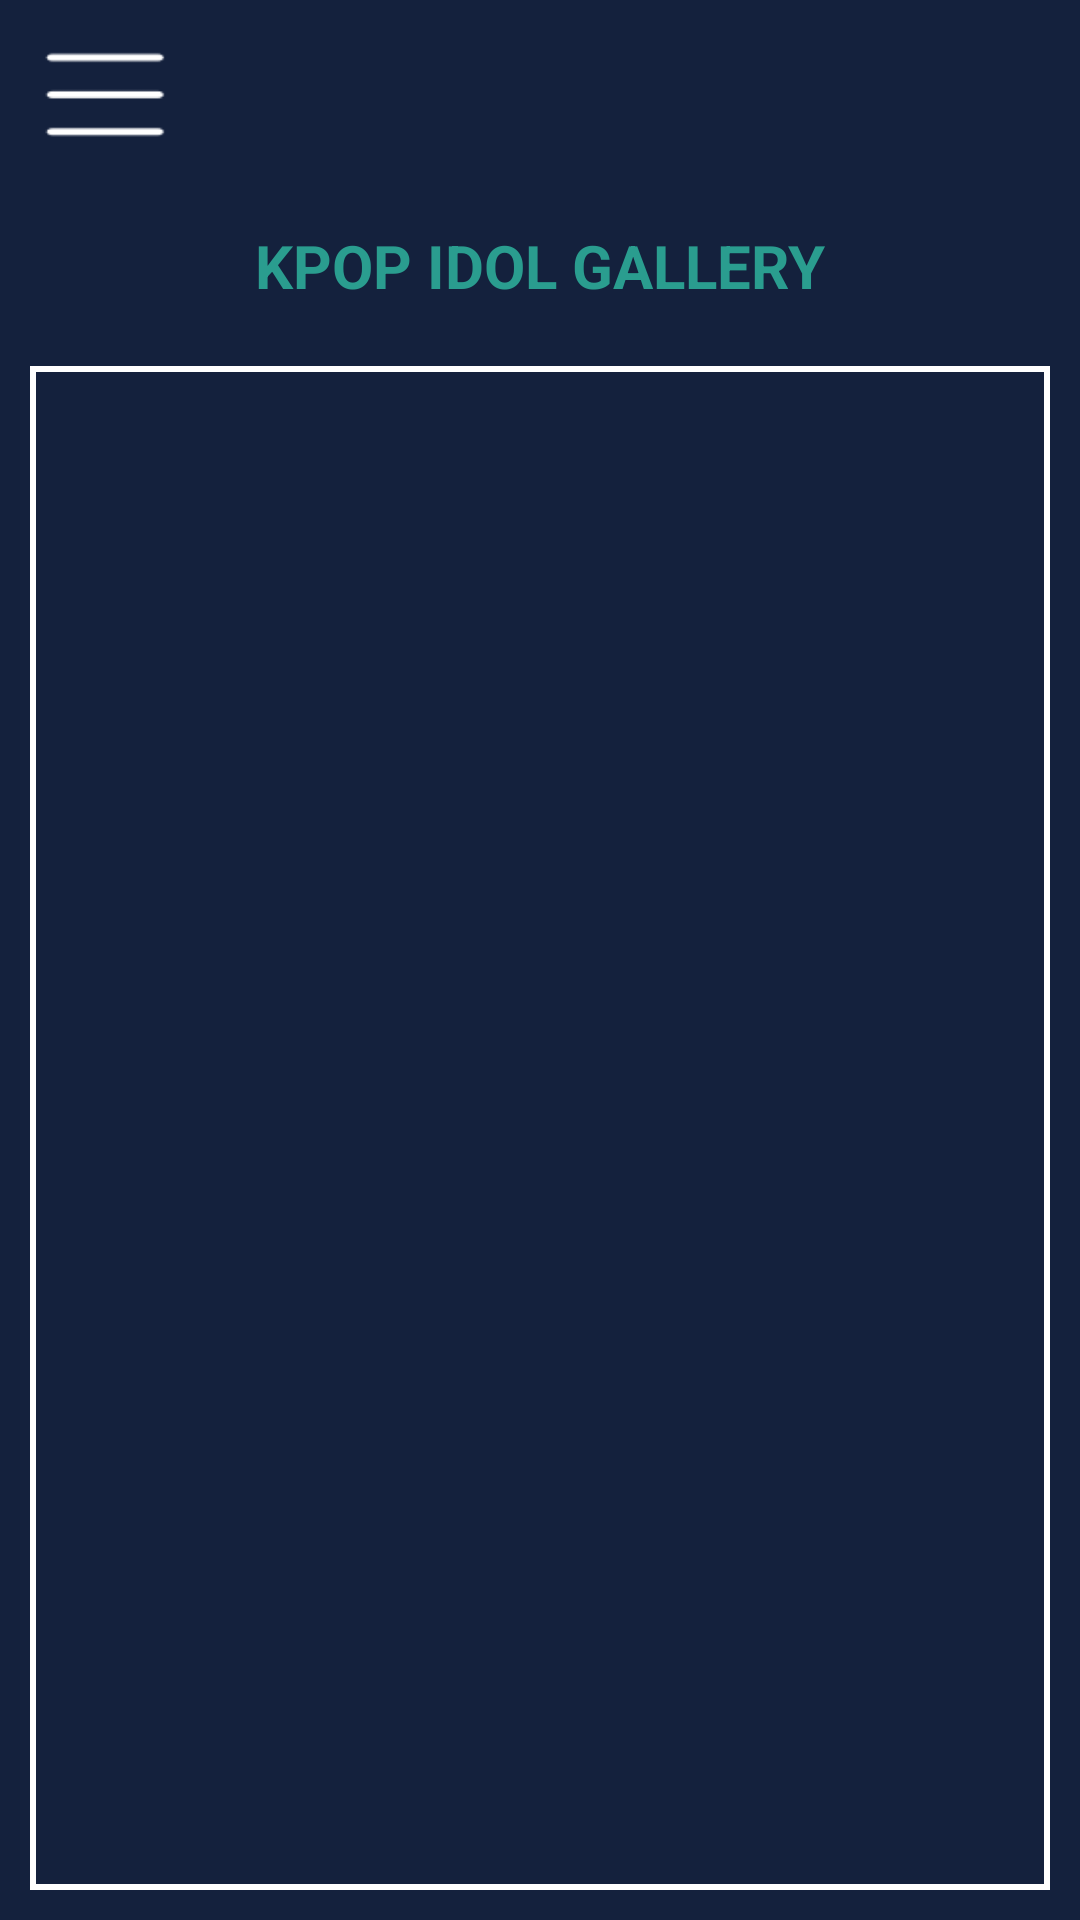

Screen size 1080×1920. Icon name, then its center in pixels as [x,y]:
options: [104,95]
